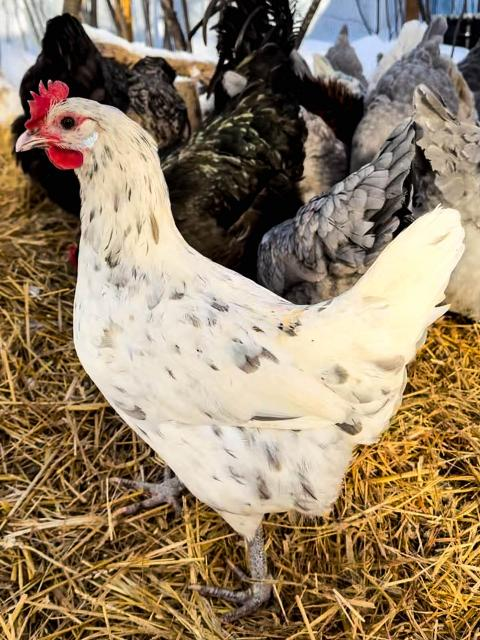Chicken: (14, 80, 469, 625), (255, 119, 418, 305), (159, 77, 306, 272)
